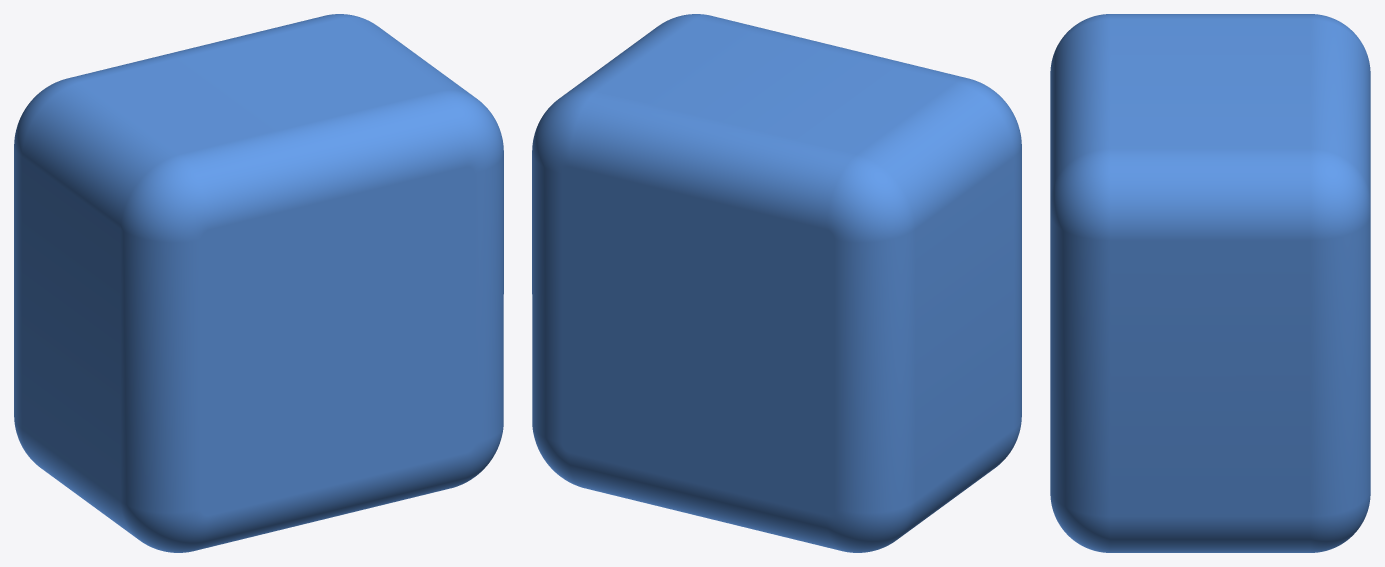
3 renders of one model, left to right at view 1: azimuth 30°, elevation 25°; view 2: azimuth 150°, elevation 25°; view 3: azimuth 270°, elevation 25°, orthographic.
Parts seen in each view (by area): view 1: cube9; view 2: cube9; view 3: cube9.
Boxes of the visible parts, bbox=[...] form: cube9: bbox=[14, 14, 503, 552]; cube9: bbox=[532, 14, 1021, 552]; cube9: bbox=[1050, 14, 1370, 552].
Bounding box in the file's own units: 8.8 × 6.4 × 8.8.
